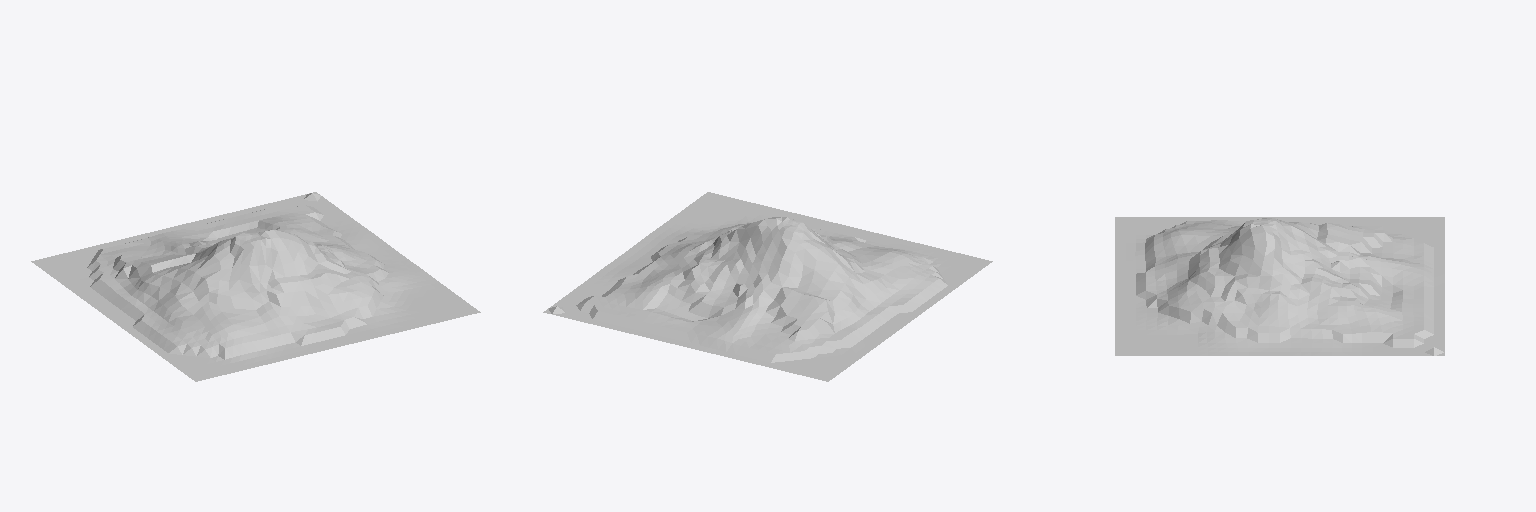
Rendered from prototype_island.obj.
The picture shows the model from 3 angles: view 1: azimuth 30°, elevation 25°; view 2: azimuth 150°, elevation 25°; view 3: azimuth 270°, elevation 25°; orthographic projection.
Visible parts, largest first — view 1: Plane; view 2: Plane; view 3: Plane.
Part boxes in pixels (left/top/right/bottom): Plane: left=31, top=192, right=480, bottom=381; Plane: left=543, top=192, right=992, bottom=381; Plane: left=1115, top=217, right=1444, bottom=355.
Bounding box in the file's own units: 2 × 0.4142 × 2.